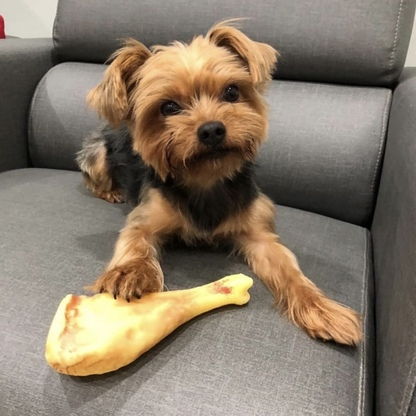yorkshire: (79, 20, 365, 347)
